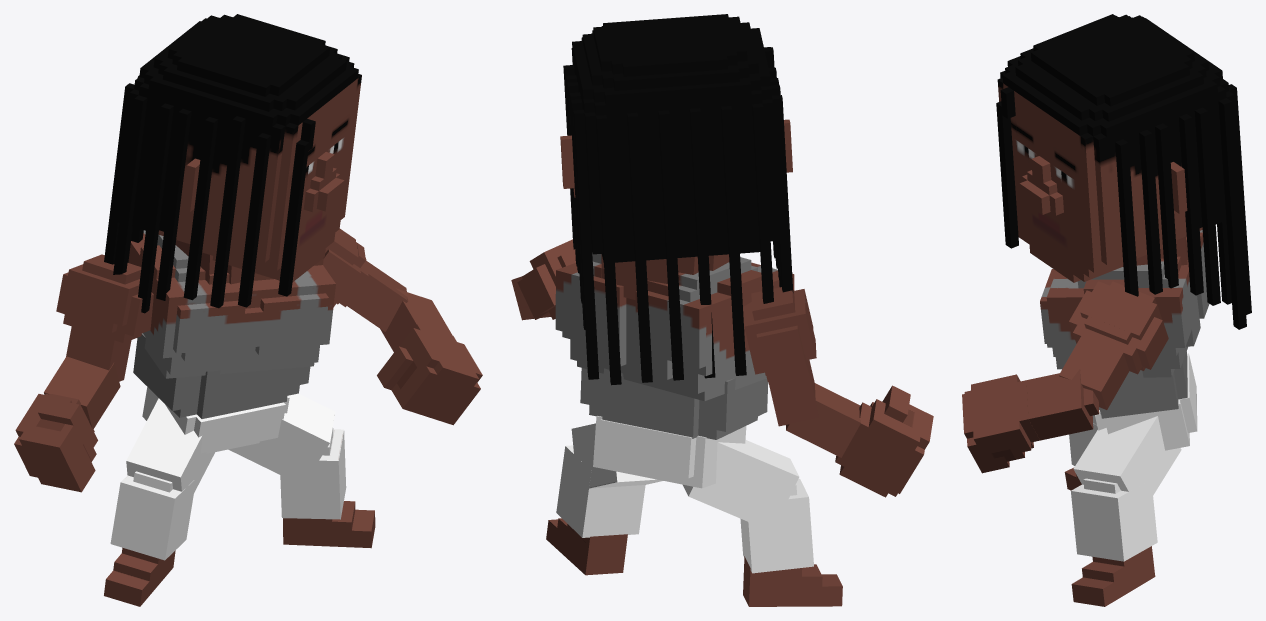
The model's file is brazilian.fbx.
3 renders of one model, left to right at view 1: azimuth 30°, elevation 25°; view 2: azimuth 150°, elevation 25°; view 3: azimuth 270°, elevation 25°, orthographic. The views are drawn at different scales.
Parts seen in each view (by area): view 1: brazilian; view 2: brazilian; view 3: brazilian.
Boxes of the visible parts, <box> form: brazilian: <box>14,14,482,606</box>; brazilian: <box>511,14,933,606</box>; brazilian: <box>962,14,1251,606</box>.
Size of the model in its own units: 473 by 577 by 300.
1 material, 1 textured.
